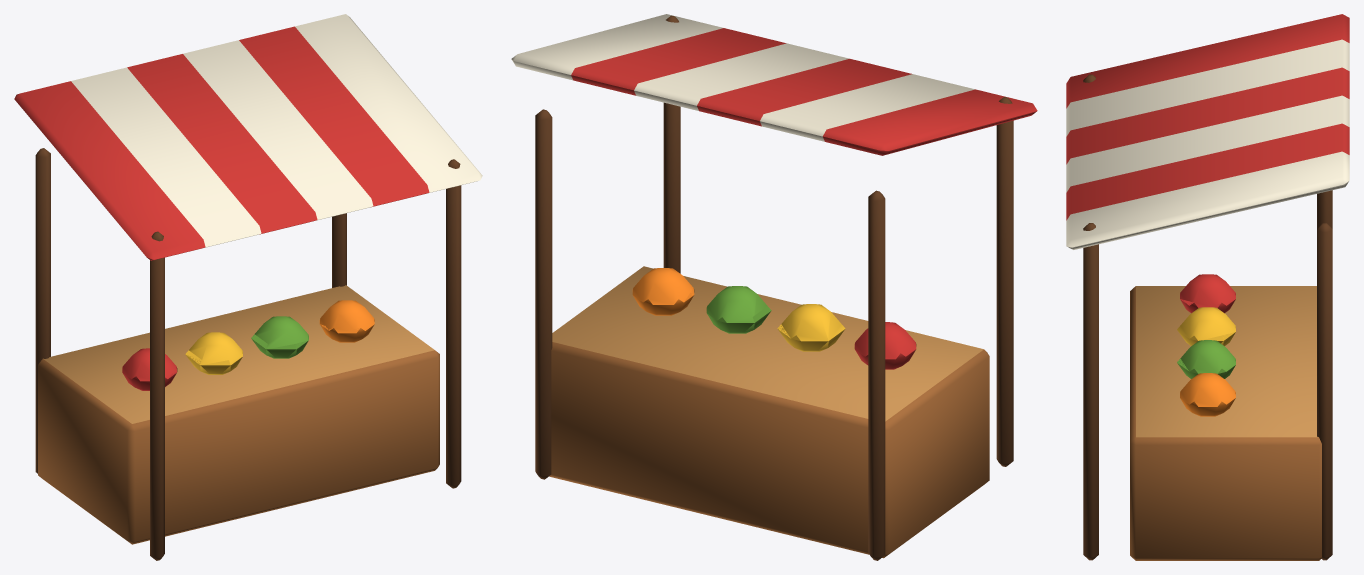
Rendered from P_MedMarketTent.fbx.
The picture shows the model from 3 angles, left to right: view 1: azimuth 30°, elevation 25°; view 2: azimuth 150°, elevation 25°; view 3: azimuth 270°, elevation 25°; orthographic projection. The views are drawn at different scales.
Visible parts, largest first — view 1: M_MarketTent; view 2: M_MarketTent; view 3: M_MarketTent.
Boxes of the visible parts, x1,y1,x2,y2 form: M_MarketTent: (14, 14, 482, 560); M_MarketTent: (511, 14, 1037, 560); M_MarketTent: (1066, 14, 1349, 560).
Bounding box in the file's own units: 2.04 × 2.21 × 1.45.
1 material, 1 textured.
